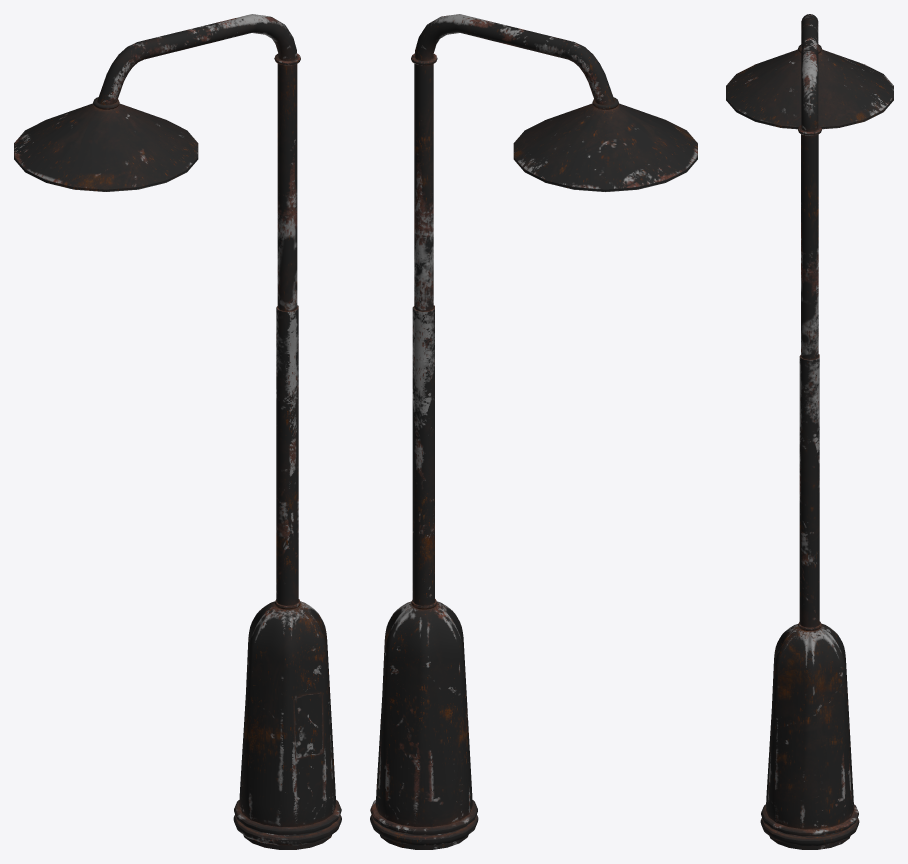
File: Street_light.fbx
The picture shows the model from 3 angles, left to right: view 1: azimuth 30°, elevation 25°; view 2: azimuth 150°, elevation 25°; view 3: azimuth 270°, elevation 25°; orthographic projection. The views are drawn at different scales.
Visible parts, largest first — view 1: Street_Ligth; view 2: Street_Ligth; view 3: Street_Ligth.
Boxes of the visible parts, bbox=[...] form: Street_Ligth: bbox=[14, 14, 341, 849]; Street_Ligth: bbox=[370, 14, 697, 849]; Street_Ligth: bbox=[726, 14, 893, 849].
Size of the model in its own units: 232 by 591 by 120.
